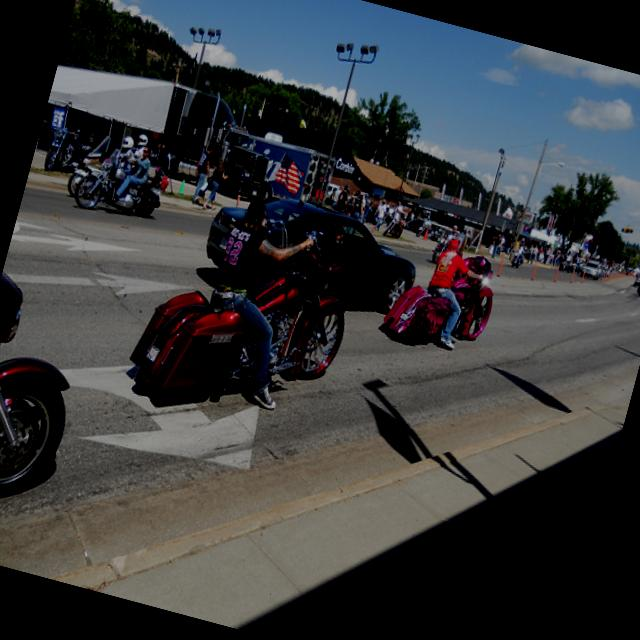Vehicle: (122, 190, 366, 432), (0, 257, 102, 524), (248, 190, 428, 320), (150, 82, 296, 208), (378, 234, 503, 358), (233, 132, 337, 217), (71, 153, 168, 227), (41, 127, 93, 181), (64, 159, 100, 201), (382, 216, 405, 241), (579, 257, 604, 280), (509, 244, 526, 270), (580, 260, 602, 280), (633, 273, 640, 288), (637, 285, 640, 297)
